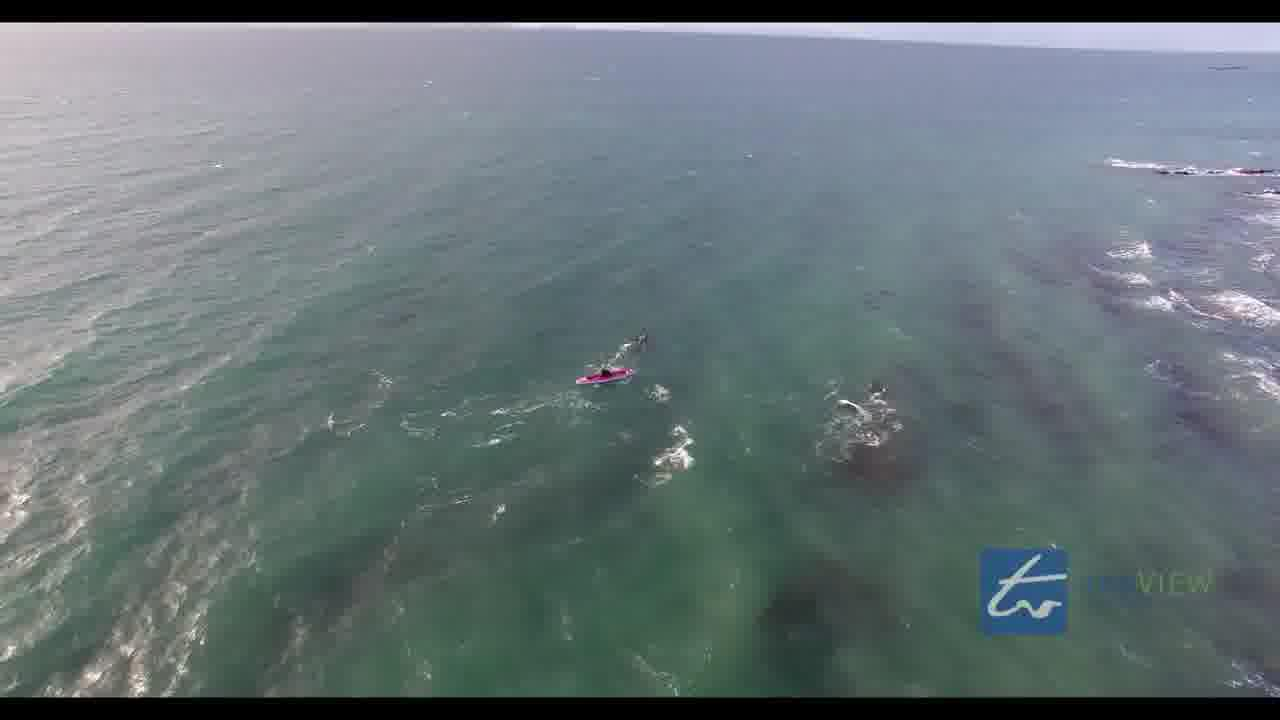swimmer: (593, 363, 612, 383)
